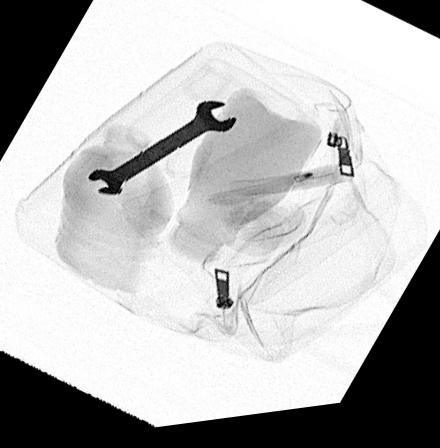Wrench: (87, 103, 239, 200)
